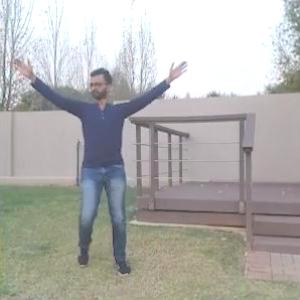takeoff: (6, 53, 205, 288)
